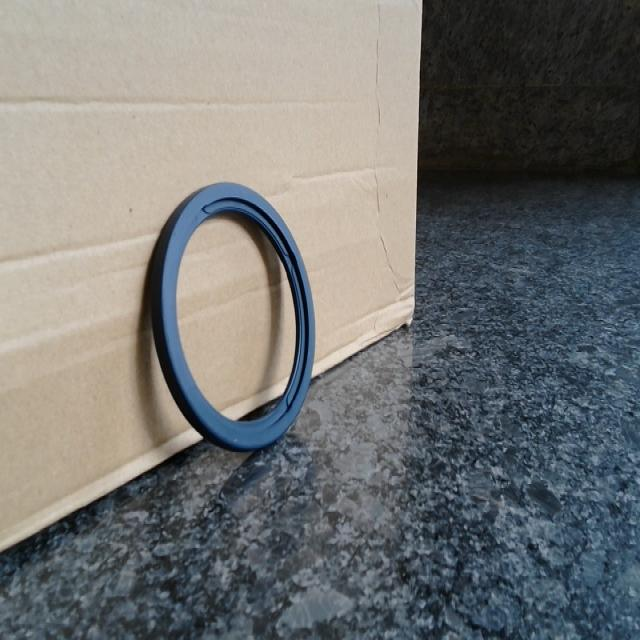cobalt-blue-ring: (149, 185, 314, 450)
